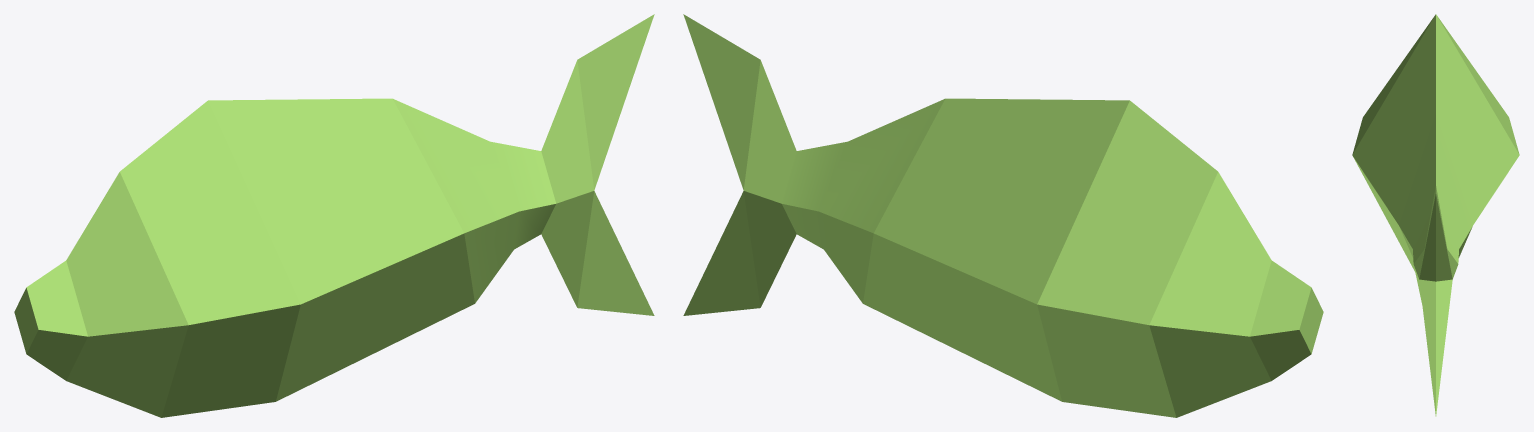
File: Asset_FishOrange.fbx
3 renders of one model, left to right at view 1: azimuth 30°, elevation 25°; view 2: azimuth 150°, elevation 25°; view 3: azimuth 270°, elevation 25°, orthographic. The views are drawn at different scales.
Visible parts, largest first — view 1: poisson_01; view 2: poisson_01; view 3: poisson_01.
Part boxes in pixels (x1,y1,x2,y2): poisson_01: (14, 14, 654, 417); poisson_01: (683, 14, 1323, 417); poisson_01: (1352, 14, 1519, 416).
Bounding box in the file's own units: 19.03 × 9.39 × 5.9.
Materials: 1 (1 with a texture image).
